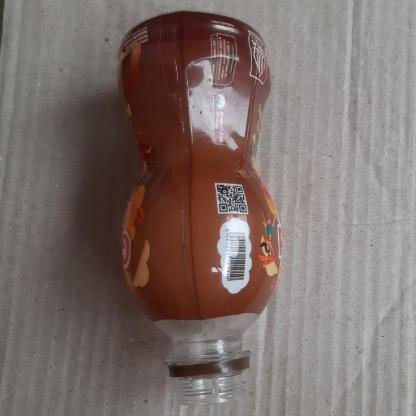Plastic Bottle: (118, 9, 284, 406)
